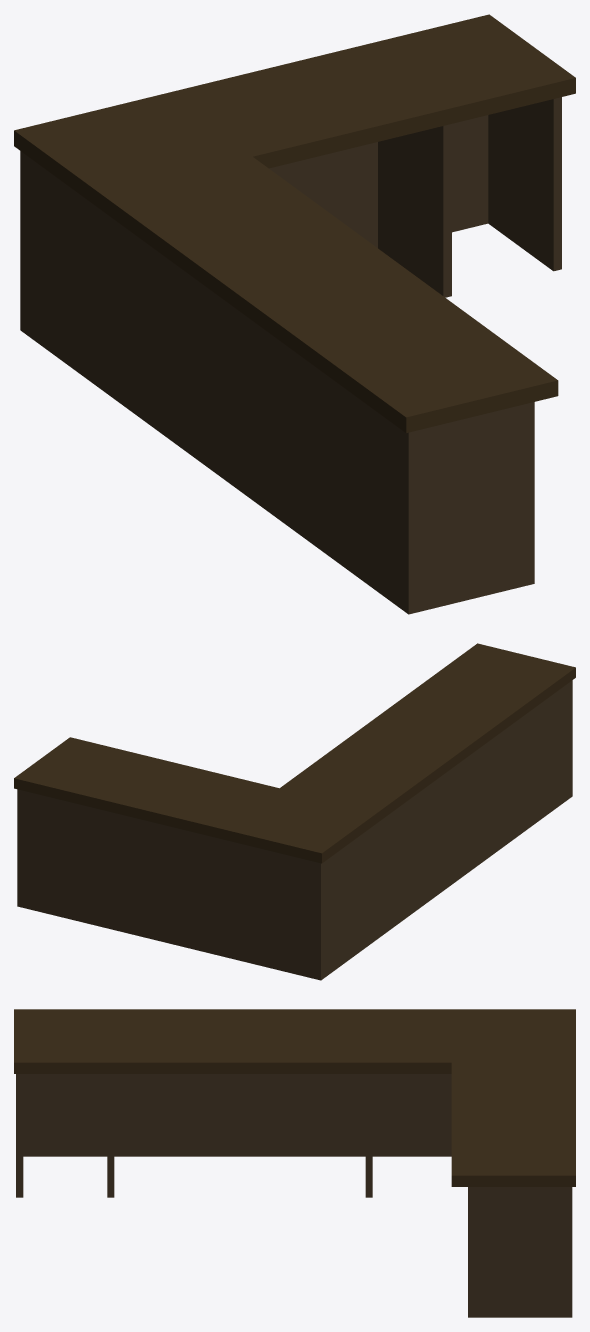
File: Office_Desk_4_Two_Alt.fbx
3 views of the same model, one above another, from view 1: azimuth 30°, elevation 25°; view 2: azimuth 150°, elevation 25°; view 3: azimuth 270°, elevation 25° (orthographic). The views are drawn at different scales.
Visible parts, largest first — view 1: Office_Desk_4_Two_Alt; view 2: Office_Desk_4_Two_Alt; view 3: Office_Desk_4_Two_Alt.
Boxes of the visible parts, <box> form: Office_Desk_4_Two_Alt: <box>14,14,575,614</box>; Office_Desk_4_Two_Alt: <box>14,643,575,980</box>; Office_Desk_4_Two_Alt: <box>14,1009,575,1317</box>.
Size of the model in its own units: 238 by 95.09 by 339.
